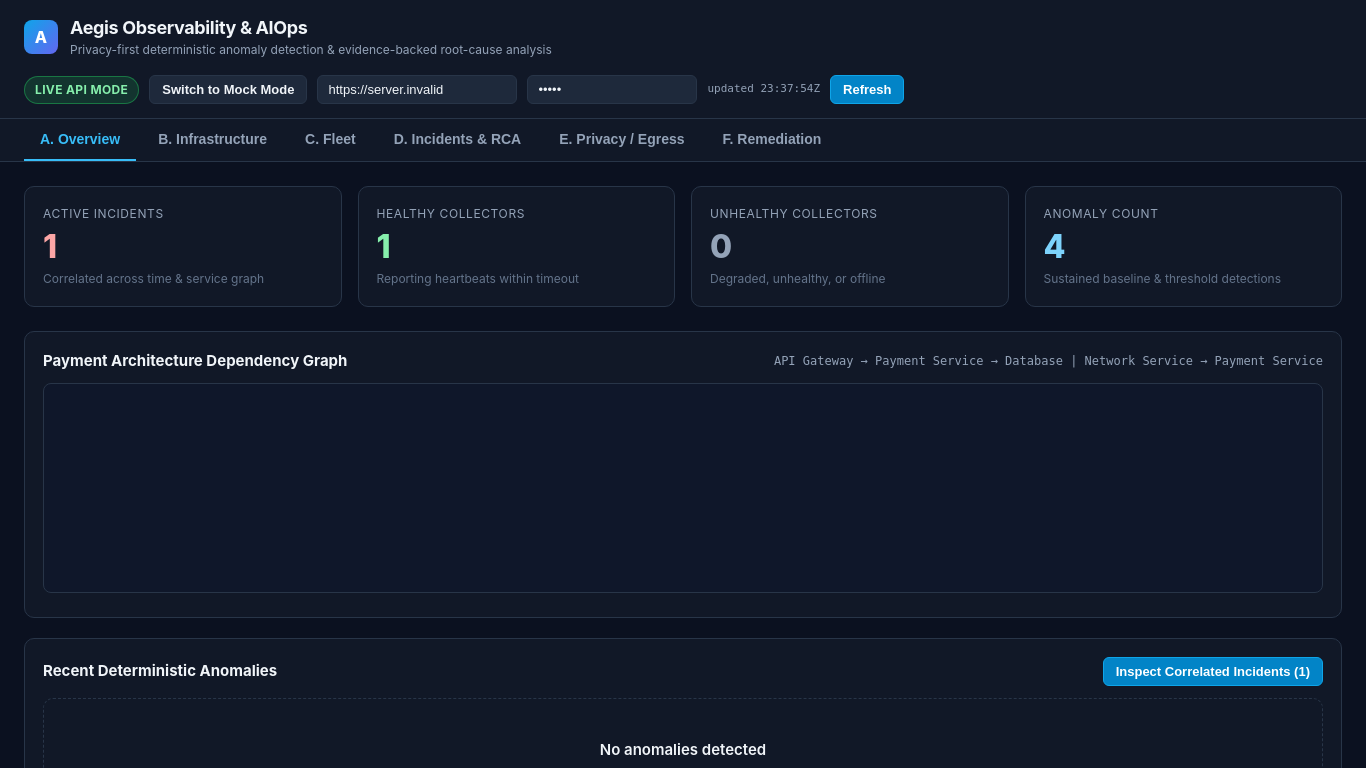
it: Live API mode › renders live incident, fleet and backend egress evidence (no mock banner)
Later steps or results of the test are not shown.
Expected: the text with test id "kpi-active-incidents" reads "1", left=43, top=227, right=57, bottom=266
Expected: the text with test id "data-mode-badge" reads "Live API Mode", left=35, top=82, right=128, bottom=96
Step 1. Click the button "D. Incidents & RCA" → [458, 140], box left=378, top=119, right=537, bottom=161
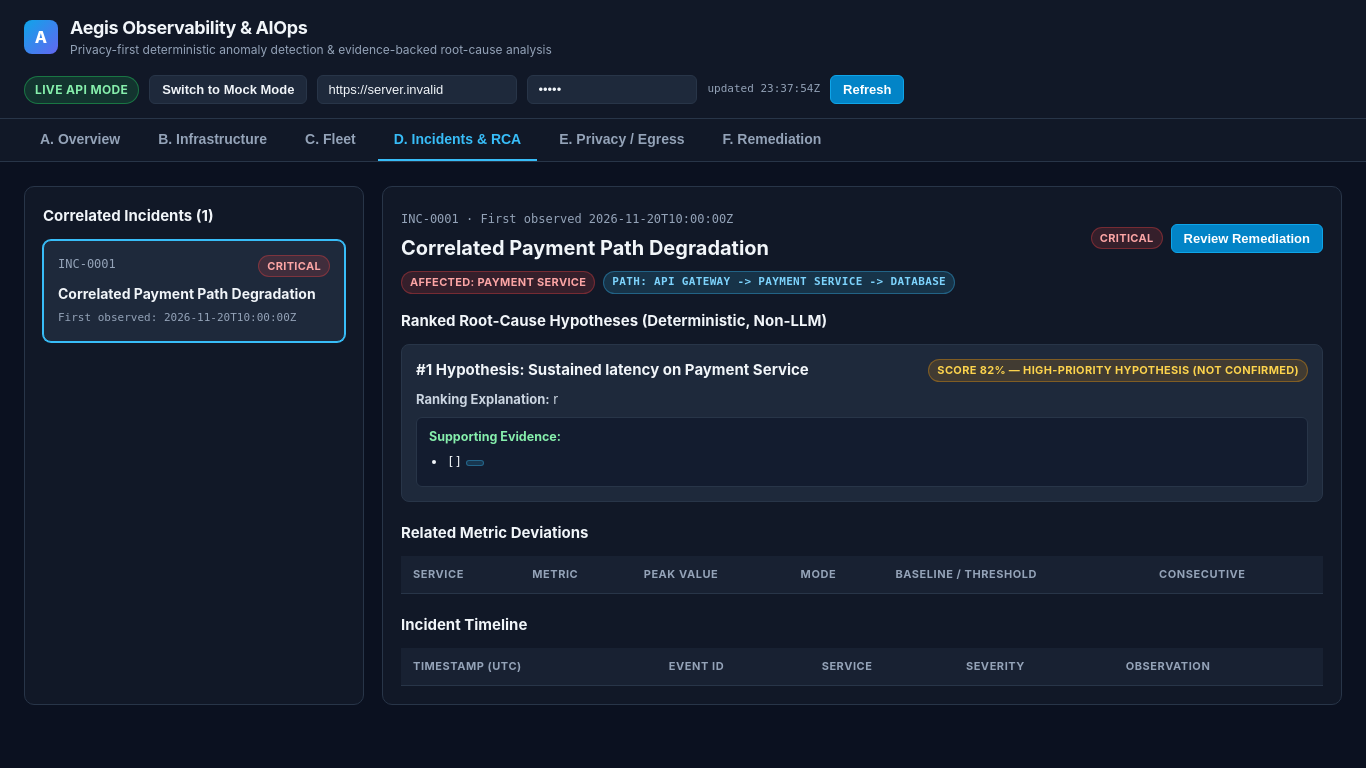
Expected: the text "Correlated Payment Path Degradation" is shown, left=58, top=283, right=330, bottom=304
Expected: the text "#1 Hypothesis: Sustained latency on Payment Service" is shown, left=416, top=359, right=809, bottom=382
Step 2. Click the button "E. Privacy / Egress" → [622, 140], box left=543, top=119, right=700, bottom=161
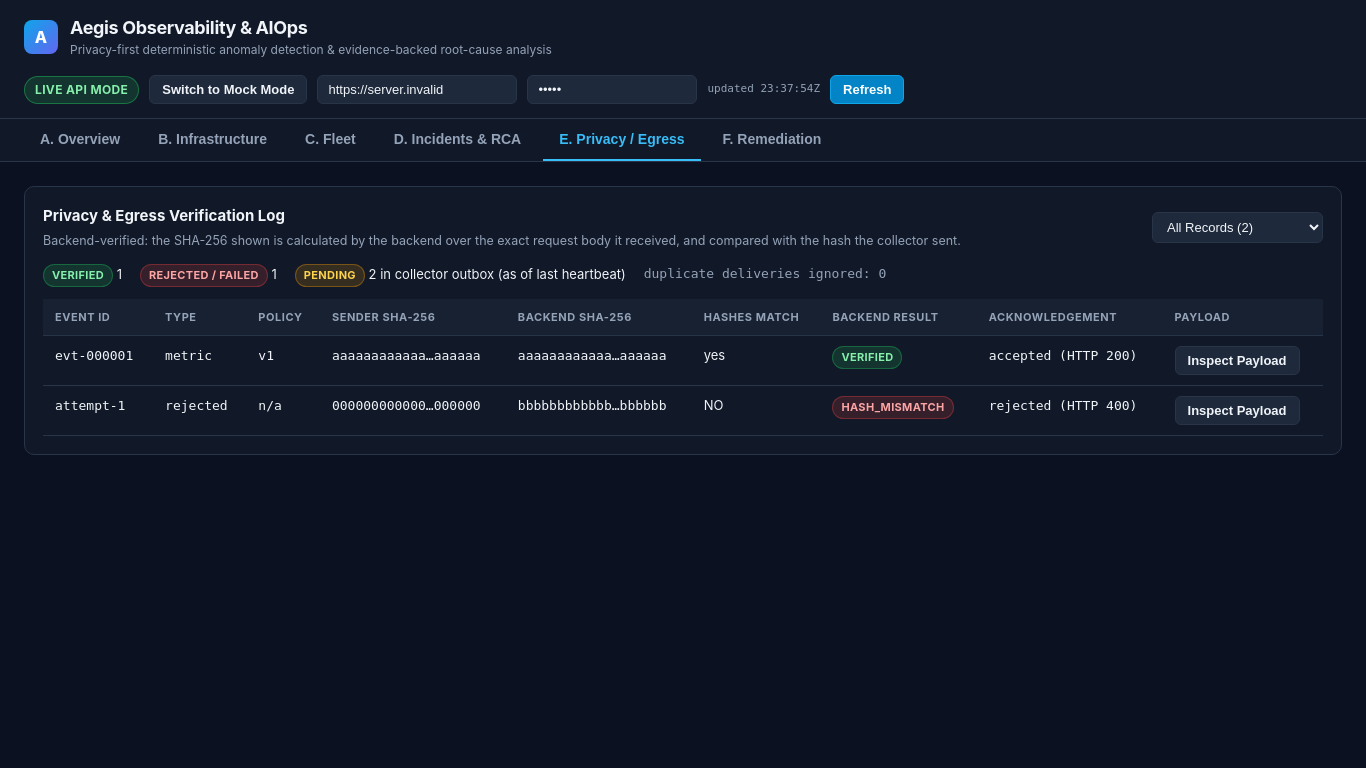
Expected: the element with test id "egress-summary" shows "2 in collector outbox", left=43, top=264, right=886, bottom=287
Expected: the cell with test id "hash-match-evt-000001" reads "yes", left=704, top=347, right=725, bottom=363
Expected: the cell with test id "ack-evt-000001" reads "accepted (HTTP 200)", left=989, top=348, right=1137, bottom=363
